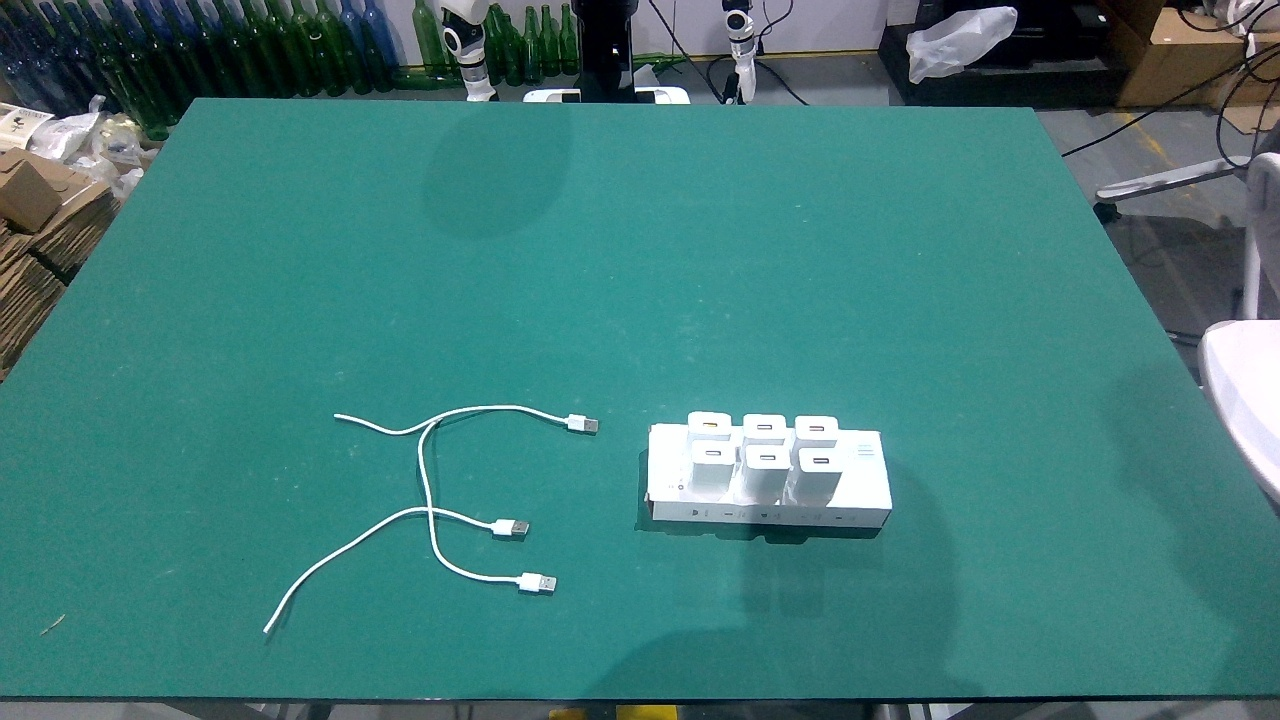usb_a_port: (757, 453, 779, 463), (810, 456, 831, 466), (805, 424, 827, 433), (704, 449, 723, 458), (701, 421, 721, 429), (754, 423, 774, 431)
